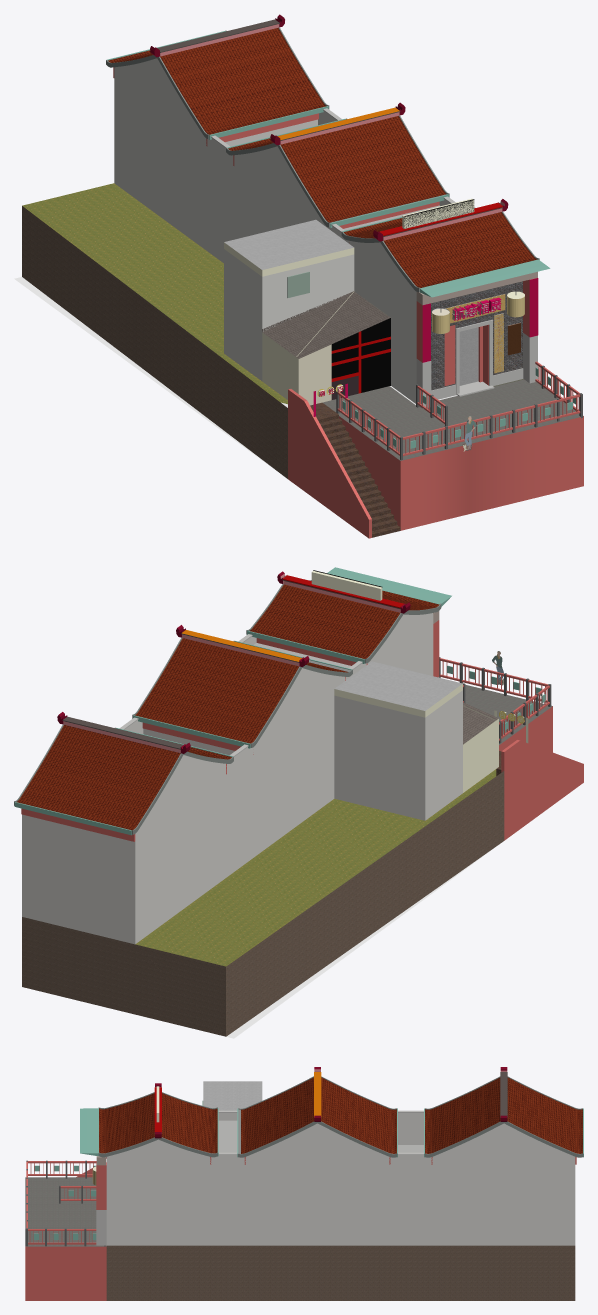
Rendered from kwong-fook-temple.glb.
3 views of the same model, one above another, from view 1: azimuth 30°, elevation 25°; view 2: azimuth 150°, elevation 25°; view 3: azimuth 270°, elevation 25° (orthographic). The views are drawn at different scales.
Visible parts, largest first — view 1: mesh_34_ROOT__Temple_廣福慈航廟_Layer0_151_134_122_ss, mesh_33_ROOT__Temple_廣福慈航廟_Layer0_158_160_98_ss, mesh_267_ROOT__Temple_廣福慈航廟__Rear_Hall_後殿__Walls_&_Gables_牆身, mesh_250_ROOT__Temple_廣福慈航廟__Middle_Hall_中殿__Roof_屋頂__Roof_S, mesh_270_ROOT__Temple_廣福慈航廟__Rear_Hall_後殿__Roof_屋頂__Roof_Sla, mesh_45_ROOT__Temple_廣福慈航廟__Forecourt,_Terrace_&_Stairs_前庭__, mesh_387_ROOT__Temple_廣福慈航廟__Side_Halls_側廂__Side_Hall_A_Body, mesh_229_ROOT__Temple_廣福慈航廟__Front_Hall_前殿__Roof_屋頂__Roof_Sl, mesh_48_ROOT__Temple_廣福慈航廟__Forecourt,_Terrace_&_Stairs_前庭__, mesh_53_ROOT__Temple_廣福慈航廟__Forecourt,_Terrace_&_Stairs_前庭__, mesh_247_ROOT__Temple_廣福慈航廟__Middle_Hall_中殿__Walls_&_Gables_, mesh_215_ROOT__Temple_廣福慈航廟__Front_Hall_前殿__Wall_West_Bay_左間 (+26 smaller); view 2: mesh_34_ROOT__Temple_廣福慈航廟_Layer0_151_134_122_ss, mesh_267_ROOT__Temple_廣福慈航廟__Rear_Hall_後殿__Walls_&_Gables_牆身, mesh_33_ROOT__Temple_廣福慈航廟_Layer0_158_160_98_ss, mesh_387_ROOT__Temple_廣福慈航廟__Side_Halls_側廂__Side_Hall_A_Body, mesh_247_ROOT__Temple_廣福慈航廟__Middle_Hall_中殿__Walls_&_Gables_, mesh_270_ROOT__Temple_廣福慈航廟__Rear_Hall_後殿__Roof_屋頂__Roof_Sla, mesh_250_ROOT__Temple_廣福慈航廟__Middle_Hall_中殿__Roof_屋頂__Roof_S, mesh_229_ROOT__Temple_廣福慈航廟__Front_Hall_前殿__Roof_屋頂__Roof_Sl, mesh_53_ROOT__Temple_廣福慈航廟__Forecourt,_Terrace_&_Stairs_前庭__, mesh_386_ROOT__Temple_廣福慈航廟__Side_Halls_側廂_Layer0_200_200_20, mesh_291_ROOT__Temple_廣福慈航廟__Rear_Corridor_連廊__Wall_West_Lay, mesh_378_ROOT__Temple_廣福慈航廟__Side_Halls_側廂_Layer0_255_252_19 (+17 smaller); view 3: mesh_34_ROOT__Temple_廣福慈航廟_Layer0_151_134_122_ss, mesh_247_ROOT__Temple_廣福慈航廟__Middle_Hall_中殿__Walls_&_Gables_, mesh_267_ROOT__Temple_廣福慈航廟__Rear_Hall_後殿__Walls_&_Gables_牆身, mesh_218_ROOT__Temple_廣福慈航廟__Front_Hall_前殿__Wall_East_Bay_右間, mesh_250_ROOT__Temple_廣福慈航廟__Middle_Hall_中殿__Roof_屋頂__Roof_S, mesh_270_ROOT__Temple_廣福慈航廟__Rear_Hall_後殿__Roof_屋頂__Roof_Sla, mesh_229_ROOT__Temple_廣福慈航廟__Front_Hall_前殿__Roof_屋頂__Roof_Sl, mesh_45_ROOT__Temple_廣福慈航廟__Forecourt,_Terrace_&_Stairs_前庭__, mesh_292_ROOT__Temple_廣福慈航廟__Rear_Corridor_連廊__Wall_East_Lay, mesh_287_ROOT__Temple_廣福慈航廟__Front_Corridor_連廊__Wall_East_La, mesh_46_ROOT__Temple_廣福慈航廟__Forecourt,_Terrace_&_Stairs_前庭__, mesh_49_ROOT__Temple_廣福慈航廟__Forecourt,_Terrace_&_Stairs_前庭__ (+12 smaller).
Part boxes in pixels (x1,y1,x2,y2): mesh_34_ROOT__Temple_廣福慈航廟_Layer0_151_134_122_ss: (22,206,287,478); mesh_33_ROOT__Temple_廣福慈航廟_Layer0_158_160_98_ss: (22,183,287,404); mesh_267_ROOT__Temple_廣福慈航廟__Rear_Hall_後殿__Walls_&_Gables_牆身: (114,58,317,249); mesh_250_ROOT__Temple_廣福慈航廟__Middle_Hall_中殿__Roof_屋頂__Roof_S: (228,116,446,222); mesh_270_ROOT__Temple_廣福慈航廟__Rear_Hall_後殿__Roof_屋頂__Roof_Sla: (108,28,326,134); mesh_45_ROOT__Temple_廣福慈航廟__Forecourt,_Terrace_&_Stairs_前庭__: (469,416,583,513); mesh_387_ROOT__Temple_廣福慈航廟__Side_Halls_側廂__Side_Hall_A_Body: (224,249,354,380); mesh_229_ROOT__Temple_廣福慈航廟__Front_Hall_前殿__Roof_屋頂__Roof_Sl: (344,212,537,288); mesh_48_ROOT__Temple_廣福慈航廟__Forecourt,_Terrace_&_Stairs_前庭__: (339,416,469,530); mesh_53_ROOT__Temple_廣福慈航廟__Forecourt,_Terrace_&_Stairs_前庭__: (288,389,371,538); mesh_247_ROOT__Temple_廣福慈航廟__Middle_Hall_中殿__Walls_&_Gables_: (234,146,326,239); mesh_215_ROOT__Temple_廣福慈航廟__Front_Hall_前殿__Wall_West_Bay_左間: (350,241,416,403); mesh_34_ROOT__Temple_廣福慈航廟_Layer0_151_134_122_ss: (22,771,504,1036); mesh_267_ROOT__Temple_廣福慈航廟__Rear_Hall_後殿__Walls_&_Gables_牆身: (22,755,225,944); mesh_33_ROOT__Temple_廣福慈航廟_Layer0_158_160_98_ss: (135,769,496,966); mesh_387_ROOT__Temple_廣福慈航廟__Side_Halls_側廂__Side_Hall_A_Body: (334,690,462,820); mesh_247_ROOT__Temple_廣福慈航廟__Middle_Hall_中殿__Walls_&_Gables_: (143,668,344,857); mesh_270_ROOT__Temple_廣福慈航廟__Rear_Hall_後殿__Roof_屋頂__Roof_Sla: (16,725,231,830); mesh_250_ROOT__Temple_廣福慈航廟__Middle_Hall_中殿__Roof_屋頂__Roof_S: (135,638,348,743); mesh_229_ROOT__Temple_廣福慈航廟__Front_Hall_前殿__Roof_屋頂__Roof_Sl: (250,584,439,658); mesh_53_ROOT__Temple_廣福慈航廟__Forecourt,_Terrace_&_Stairs_前庭__: (501,740,583,840); mesh_386_ROOT__Temple_廣福慈航廟__Side_Halls_側廂_Layer0_200_200_20: (335,661,462,710); mesh_291_ROOT__Temple_廣福慈航廟__Rear_Corridor_連廊__Wall_West_Lay: (226,747,253,877); mesh_378_ROOT__Temple_廣福慈航廟__Side_Halls_側廂_Layer0_255_252_19: (334,684,498,792); mesh_34_ROOT__Temple_廣福慈航廟_Layer0_151_134_122_ss: (106,1245,575,1300); mesh_247_ROOT__Temple_廣福慈航廟__Middle_Hall_中殿__Walls_&_Gables_: (246,1123,389,1245); mesh_267_ROOT__Temple_廣福慈航廟__Rear_Hall_後殿__Walls_&_Gables_牆身: (432,1123,575,1245); mesh_218_ROOT__Temple_廣福慈航廟__Front_Hall_前殿__Wall_East_Bay_右間: (106,1139,209,1245); mesh_250_ROOT__Temple_廣福慈航廟__Middle_Hall_中殿__Roof_屋頂__Roof_S: (241,1077,396,1153); mesh_270_ROOT__Temple_廣福慈航廟__Rear_Hall_後殿__Roof_屋頂__Roof_Sla: (425,1077,582,1153); mesh_229_ROOT__Temple_廣福慈航廟__Front_Hall_前殿__Roof_屋頂__Roof_Sl: (99,1093,217,1153); mesh_45_ROOT__Temple_廣福慈航廟__Forecourt,_Terrace_&_Stairs_前庭__: (25,1246,106,1300); mesh_292_ROOT__Temple_廣福慈航廟__Rear_Corridor_連廊__Wall_East_Lay: (389,1155,432,1245); mesh_287_ROOT__Temple_廣福慈航廟__Front_Corridor_連廊__Wall_East_La: (210,1155,245,1245); mesh_46_ROOT__Temple_廣福慈航廟__Forecourt,_Terrace_&_Stairs_前庭__: (25,1203,106,1246); mesh_49_ROOT__Temple_廣福慈航廟__Forecourt,_Terrace_&_Stairs_前庭__: (25,1177,96,1203).
Size of the model in its own units: 11150 by 11580 by 31860.
Materials: 86 (14 with a texture image).
